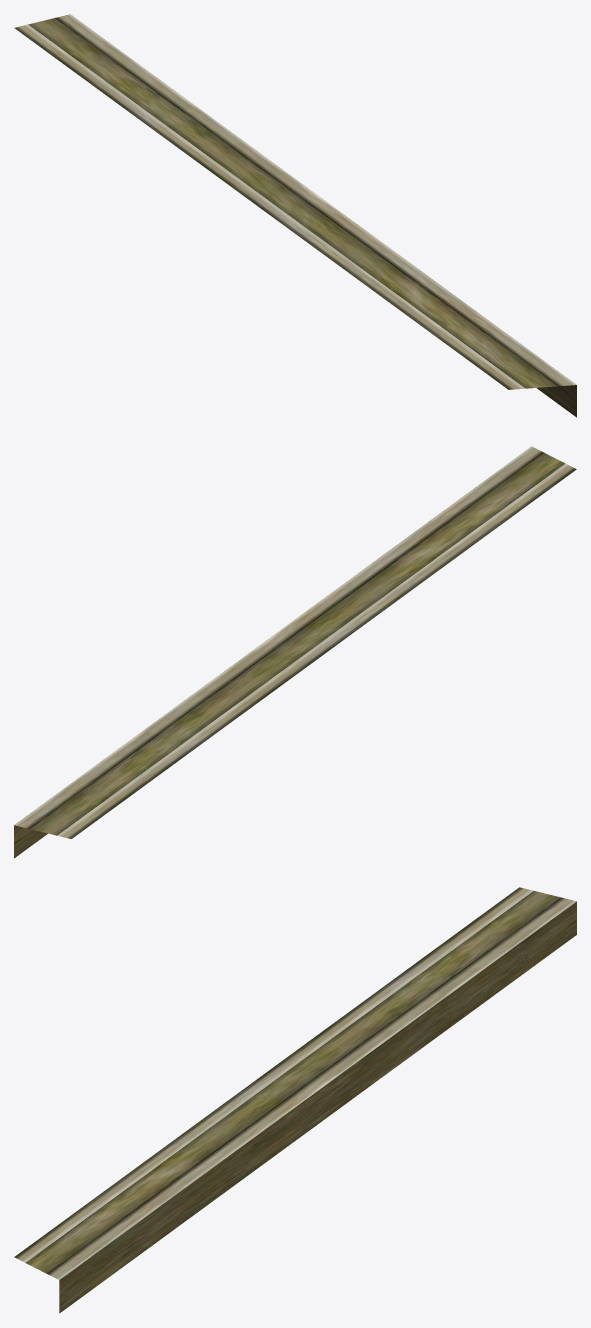
Rendered from CH09_SMAUG_PLAYSURFACE_LAIR91.fbx.
The picture shows the model from 3 angles, top to bottom: view 1: azimuth 30°, elevation 25°; view 2: azimuth 150°, elevation 25°; view 3: azimuth 330°, elevation 25°; orthographic projection. The views are drawn at different scales.
Parts seen in each view (by area): view 1: CH09_SMAUG_PLAYSURFACE_LAIR91; view 2: CH09_SMAUG_PLAYSURFACE_LAIR91; view 3: CH09_SMAUG_PLAYSURFACE_LAIR91.
Part boxes in pixels (x1,y1,x2,y2): CH09_SMAUG_PLAYSURFACE_LAIR91: (14, 14, 576, 417); CH09_SMAUG_PLAYSURFACE_LAIR91: (14, 446, 576, 858); CH09_SMAUG_PLAYSURFACE_LAIR91: (14, 887, 576, 1313).
Bounding box in the file's own units: 5400 × 3000 × 84000.
2 materials, 2 textured.
